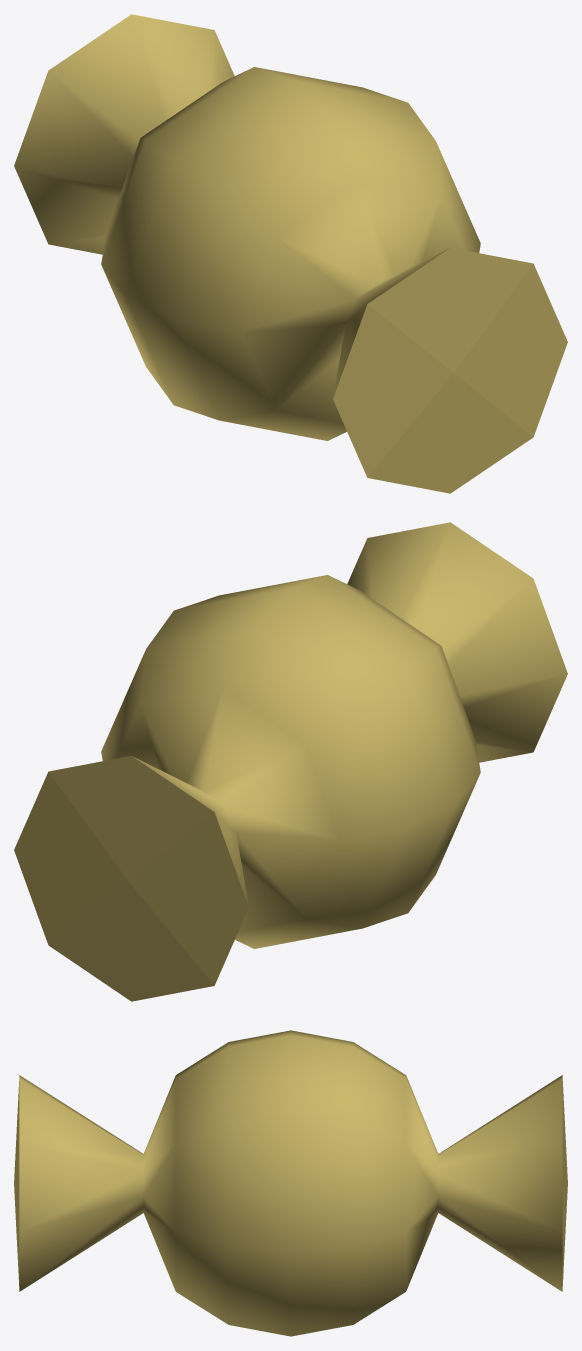
The model's file is RoundCandy.fbx.
3 renders of one model, top to bottom at view 1: azimuth 30°, elevation 25°; view 2: azimuth 150°, elevation 25°; view 3: azimuth 270°, elevation 25°, orthographic. The views are drawn at different scales.
Visible parts, largest first — view 1: Candy1; view 2: Candy1; view 3: Candy1.
Part boxes in pixels (x1,y1,x2,y2): Candy1: (14, 14, 567, 493); Candy1: (14, 522, 567, 1001); Candy1: (14, 1030, 567, 1336).
Size of the model in its own units: 0.7201 by 0.7201 by 1.22.
